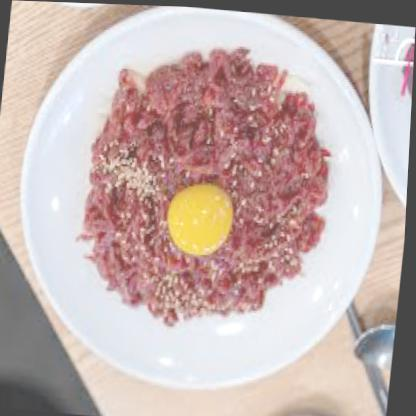Korean style raw beef: (82, 48, 331, 332)
